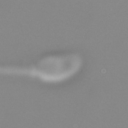normal: (1, 64, 34, 81)
